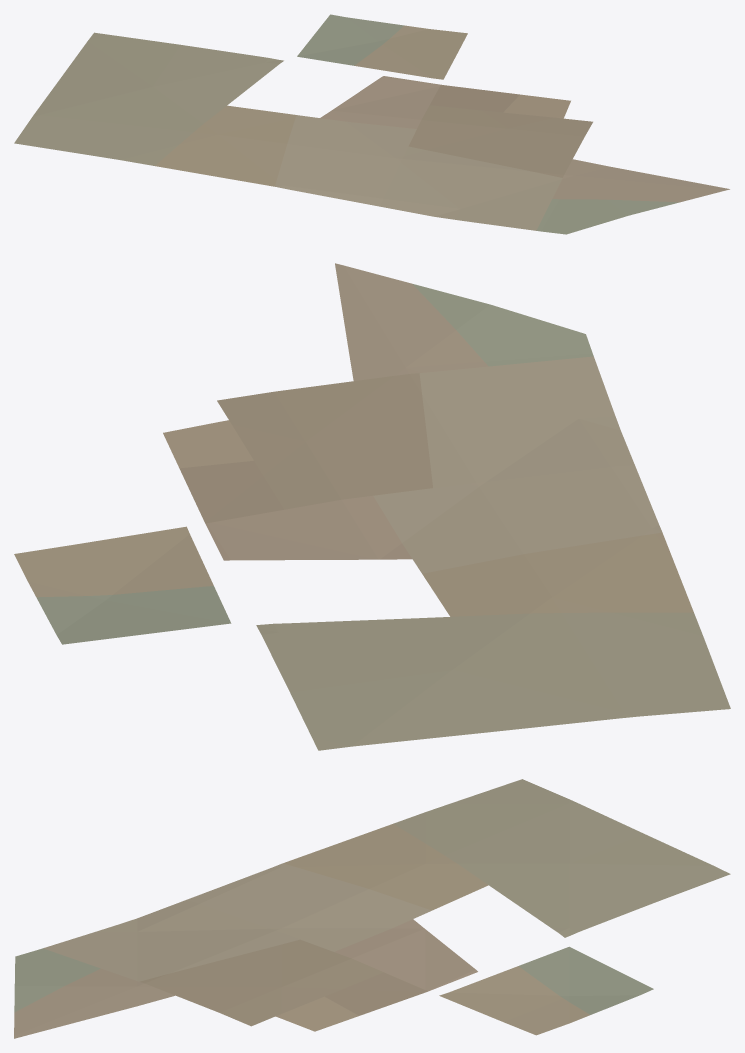
File: farm_5_20_soil.glb
The picture shows the model from 3 angles, top to bottom: view 1: azimuth 30°, elevation 25°; view 2: azimuth 150°, elevation 25°; view 3: azimuth 270°, elevation 25°; orthographic projection. The views are drawn at different scales.
Parts seen in each view (by area): view 1: geometry_0; view 2: geometry_0; view 3: geometry_0.
Boxes of the visible parts, left/top/right/bottom form: geometry_0: left=14, top=14, right=729, bottom=234; geometry_0: left=14, top=263, right=730, bottom=750; geometry_0: left=14, top=779, right=730, bottom=1038.
Size of the model in its own units: 346 by 7.49 by 398.
